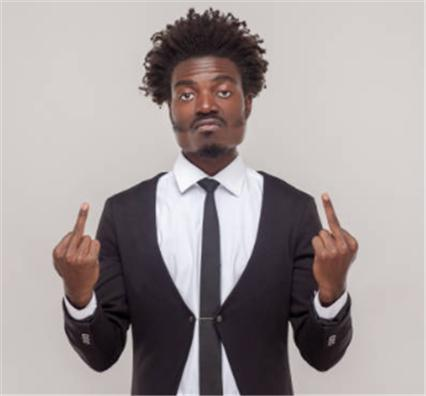insulting_gesture: (50, 202, 103, 300), (310, 192, 359, 293)
